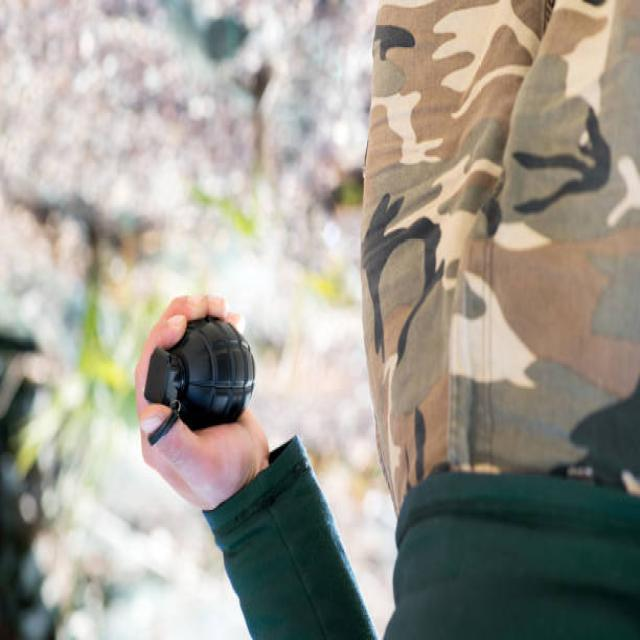grenade: (145, 316, 262, 448)
